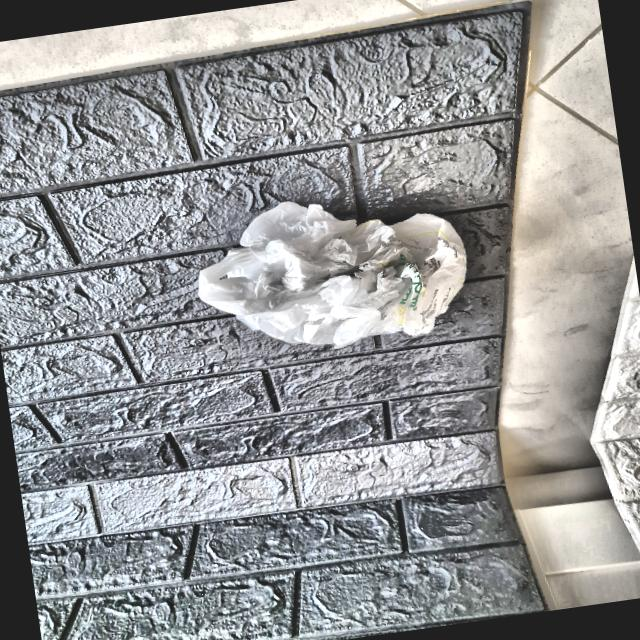plastic bag: (184, 176, 486, 370)
